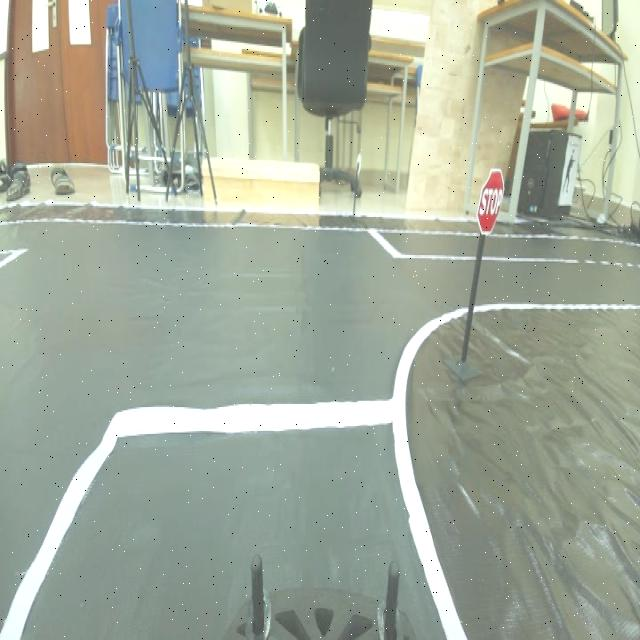stop: (476, 161, 506, 243)
